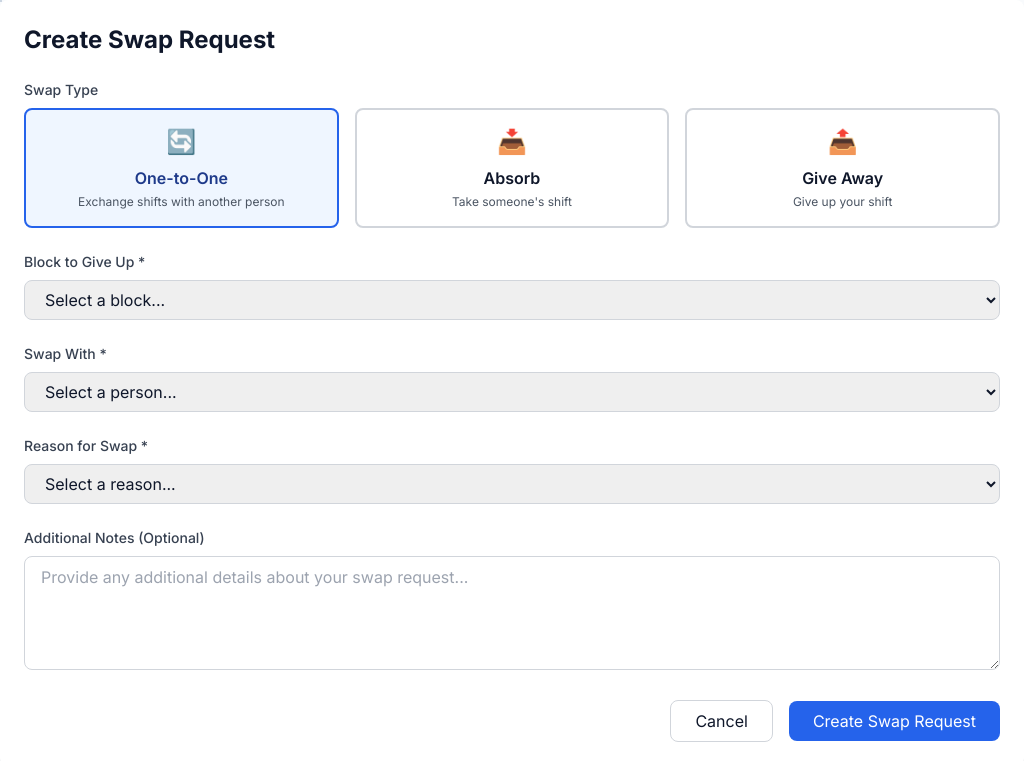
Scenario: SwapRequestForm › Form Submission › shows error message on submission failure
Fill minimal valid form
Click the button "📥 Absorb Take someone's shift" at [512, 168], box [355, 108, 669, 228]
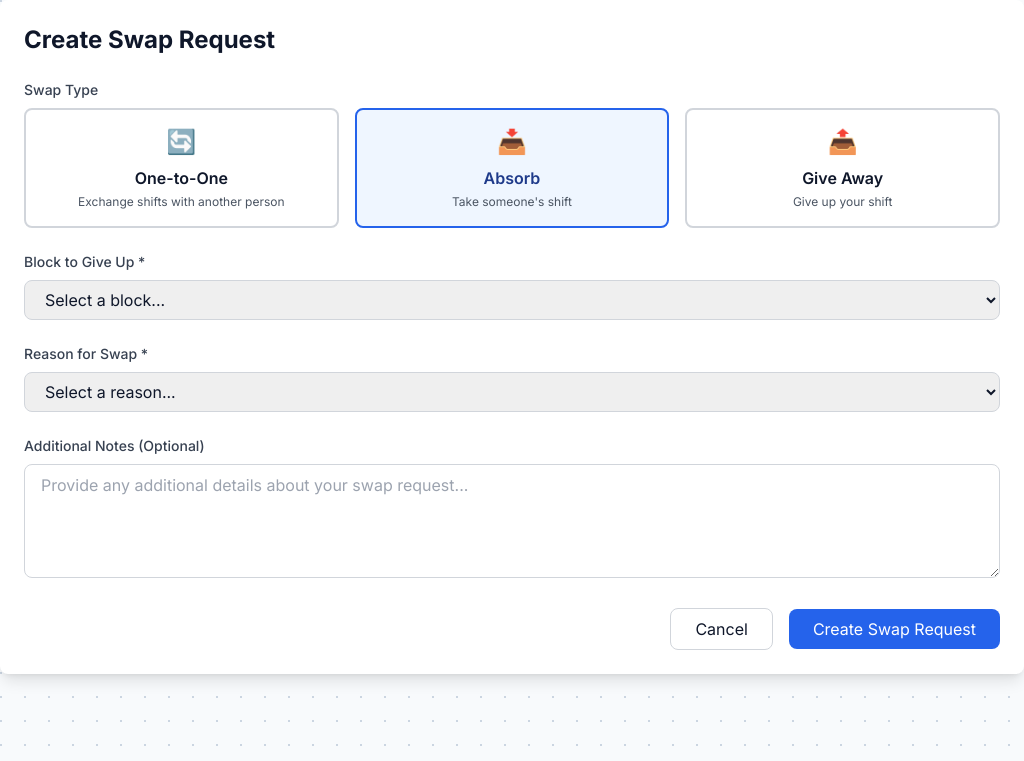
Select "1/15/2025 - AM - Inpatient" in the dropdown labelled "Block to Give Up *" at [512, 300], box [24, 280, 1000, 320]
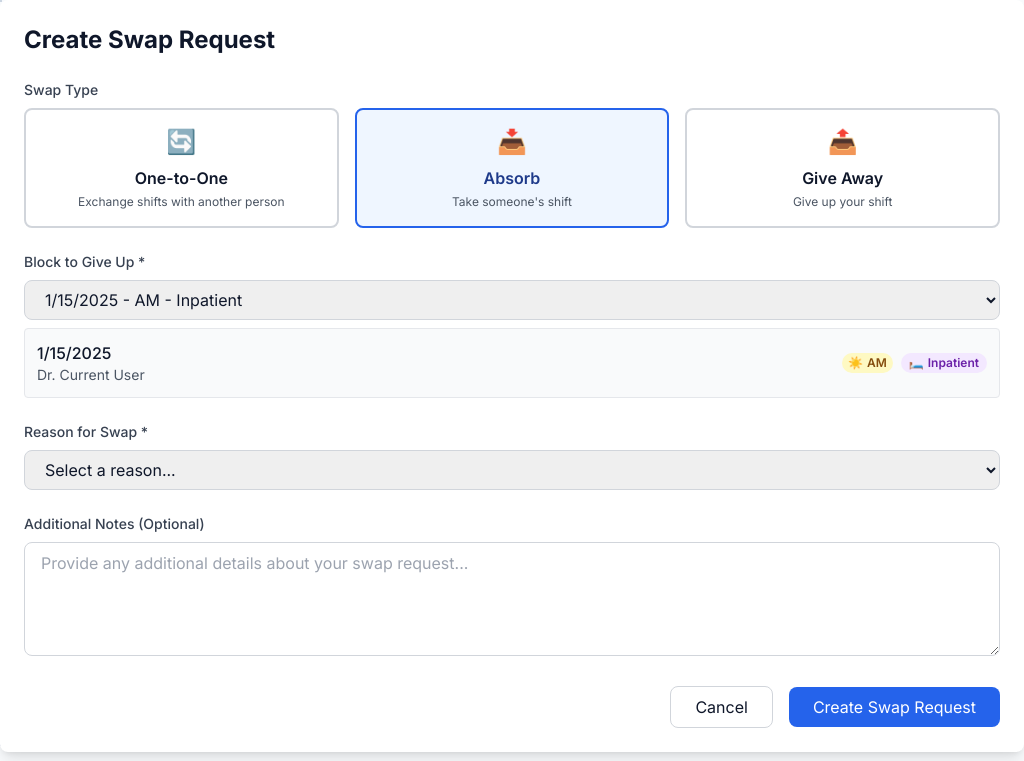
Select "Personal/Family Matter" in the dropdown labelled "Reason for Swap *" at [512, 470], box [24, 450, 1000, 490]
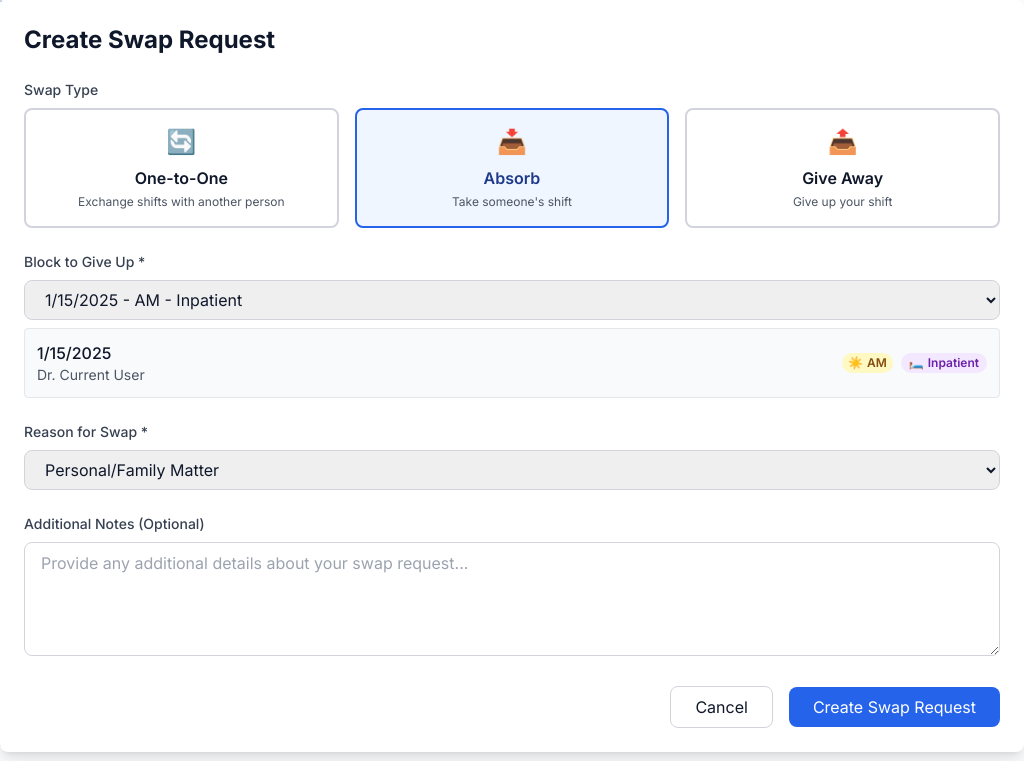
Click the button "Create Swap Request" at [894, 707], box [789, 687, 1000, 727]
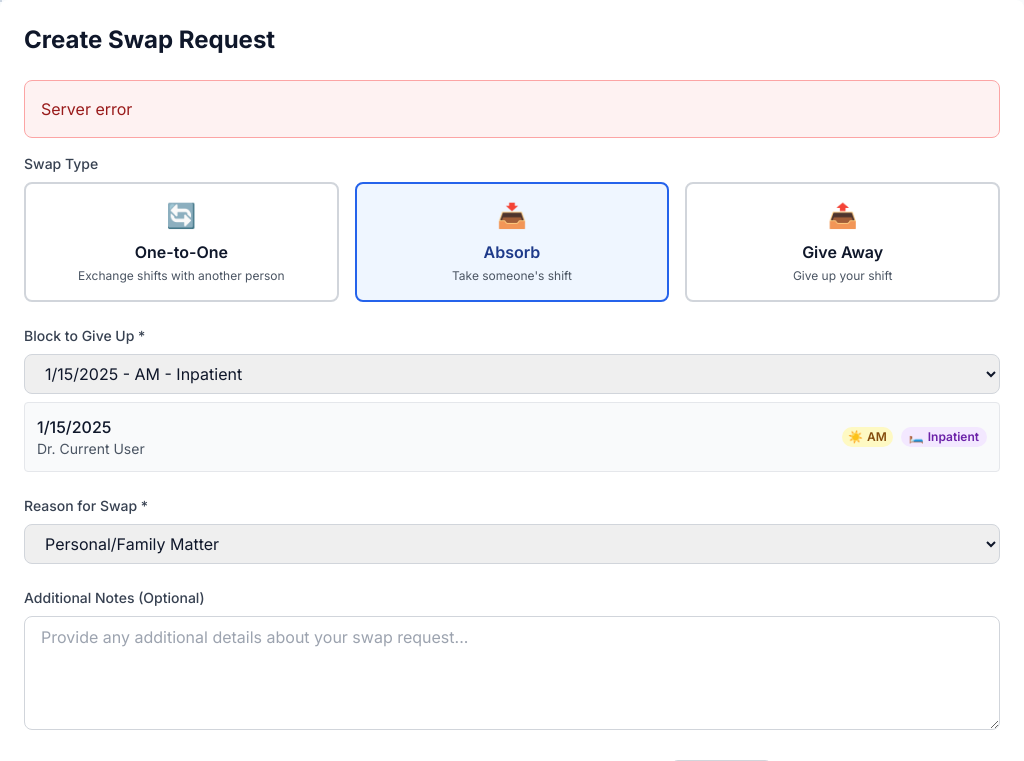
Expected: the text "Server error" is shown, [24, 80, 1000, 138]
